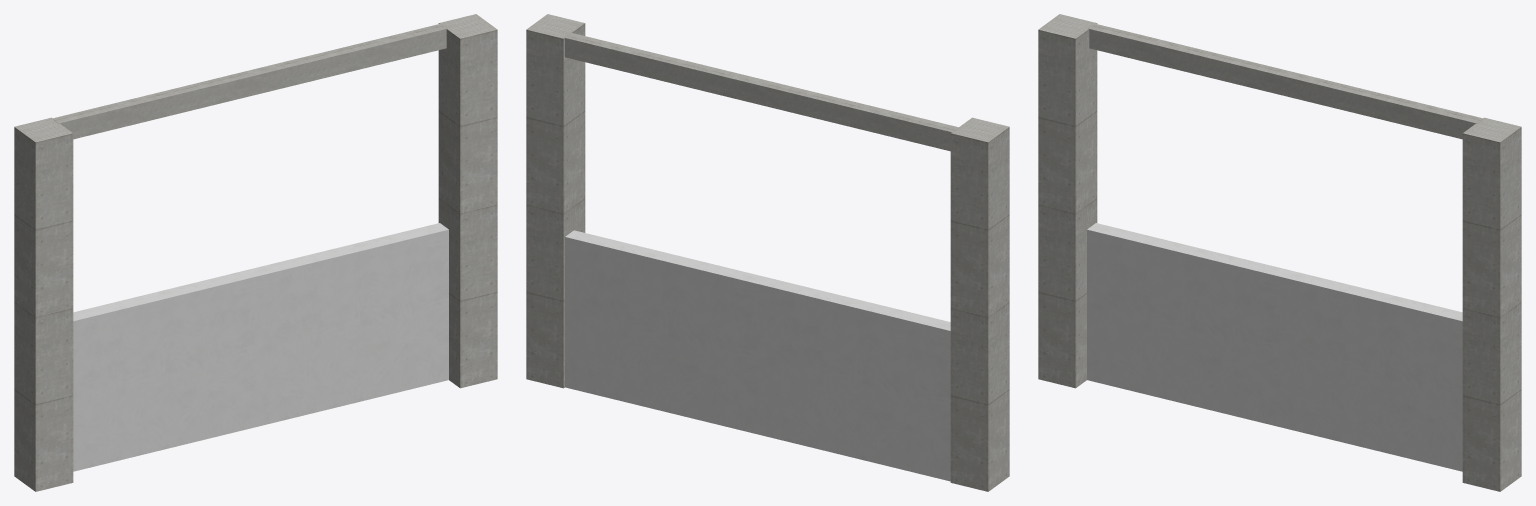
The model's file is Wall 3.fbx.
3 renders of one model, left to right at view 1: azimuth 30°, elevation 25°; view 2: azimuth 150°, elevation 25°; view 3: azimuth 330°, elevation 25°, orthographic.
Visible parts, largest first — view 1: Wall 3; view 2: Wall 3; view 3: Wall 3.
Part boxes in pixels (box(x1,y1,x2,y2)): Wall 3: box(14, 14, 497, 491); Wall 3: box(526, 14, 1009, 491); Wall 3: box(1038, 14, 1521, 491).
Bounding box in the file's own units: 915 × 662 × 73.53.
Materials: 3 (3 with a texture image).
